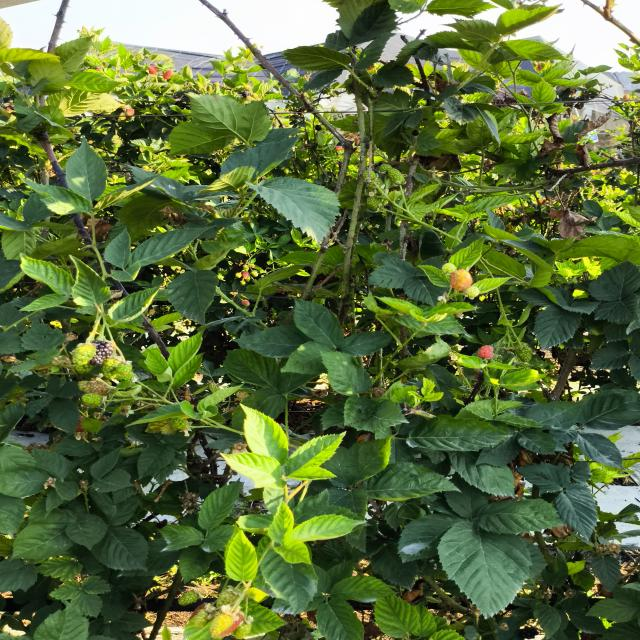marron: (88, 340, 114, 366)
naranja: (450, 269, 472, 291), (477, 345, 493, 359)
verde: (78, 378, 111, 396), (216, 586, 243, 608), (72, 343, 96, 365), (101, 358, 120, 379), (114, 363, 133, 381), (233, 621, 251, 640), (387, 167, 405, 185), (178, 591, 199, 606), (514, 345, 532, 362), (81, 393, 102, 407), (463, 286, 480, 299), (370, 174, 382, 188), (442, 263, 456, 275), (379, 164, 392, 172), (516, 362, 528, 370)
